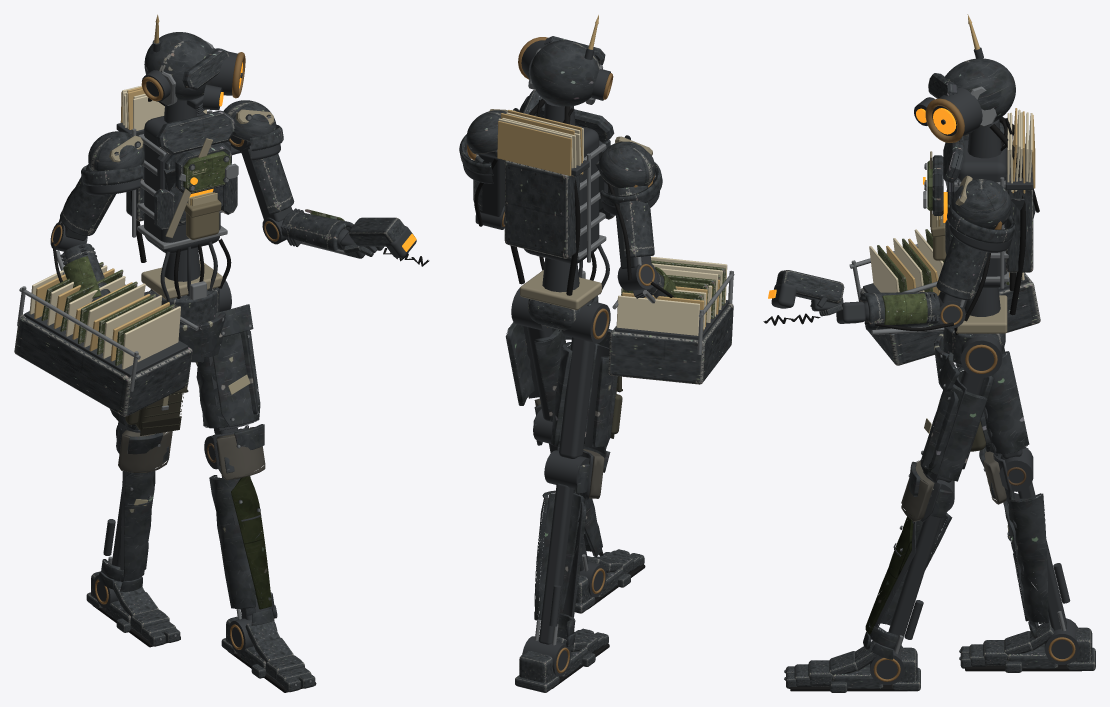
The model's file is robot.glb.
3 views of the same model, side by side, from view 1: azimuth 30°, elevation 25°; view 2: azimuth 150°, elevation 25°; view 3: azimuth 270°, elevation 25° (orthographic). The views are drawn at different scales.
Parts seen in each view (by area): view 1: file_box, leg_L, chest_plate, chassis, leg_R, head, thigh_plate_L, foot_L, foot_R, shoulder_plate_R, arm_L, hand_L (+8 smaller); view 2: leg_R, file_box, back_file_carrier, leg_L, chassis, head, foot_R, arm_R, shoulder_plate_R, foot_L, shoulder_plate_L, arm_L (+7 smaller); view 3: leg_L, leg_R, file_box, foot_R, foot_L, chassis, shoulder_plate_L, back_file_carrier, head, arm_L, forearm_L, hand_L (+6 smaller).
Boxes of the visible parts, <box> form: file_box: <box>14,262,198,416</box>; leg_L: <box>195,280,277,625</box>; chest_plate: <box>154,110,238,239</box>; chassis: <box>130,98,231,362</box>; leg_R: <box>98,290,172,591</box>; head: <box>141,32,228,113</box>; thigh_plate_L: <box>208,304,264,449</box>; foot_L: <box>221,616,316,692</box>; foot_R: <box>86,571,180,647</box>; shoulder_plate_R: <box>81,131,144,195</box>; arm_L: <box>228,135,294,244</box>; hand_L: <box>340,217,429,266</box>; leg_R: <box>534,300,614,646</box>; file_box: <box>608,256,734,384</box>; back_file_carrier: <box>495,110,589,258</box>; leg_L: <box>505,288,603,571</box>; chassis: <box>510,98,609,339</box>; head: <box>528,36,613,123</box>; foot_R: <box>515,628,609,692</box>; arm_R: <box>603,179,656,291</box>; shoulder_plate_R: <box>598,135,662,215</box>; foot_L: <box>574,549,645,613</box>; shoulder_plate_L: <box>459,108,519,183</box>; arm_L: <box>473,151,504,229</box>; leg_L: <box>863,333,1002,659</box>; leg_R: <box>983,347,1070,638</box>; file_box: <box>849,229,1040,365</box>; foot_R: <box>959,618,1095,672</box>; foot_L: <box>784,640,920,692</box>; chassis: <box>934,117,1025,389</box>; shoulder_plate_L: <box>947,175,1015,252</box>; back_file_carrier: <box>1005,108,1035,272</box>; head: <box>928,58,1015,150</box>; arm_L: <box>936,236,990,328</box>; forearm_L: <box>859,292,953,335</box>; hand_L: <box>763,270,865,325</box>.
Bounding box in the file's own units: 1.01 × 2.06 × 0.96.
Materials: 23 (6 with a texture image).
